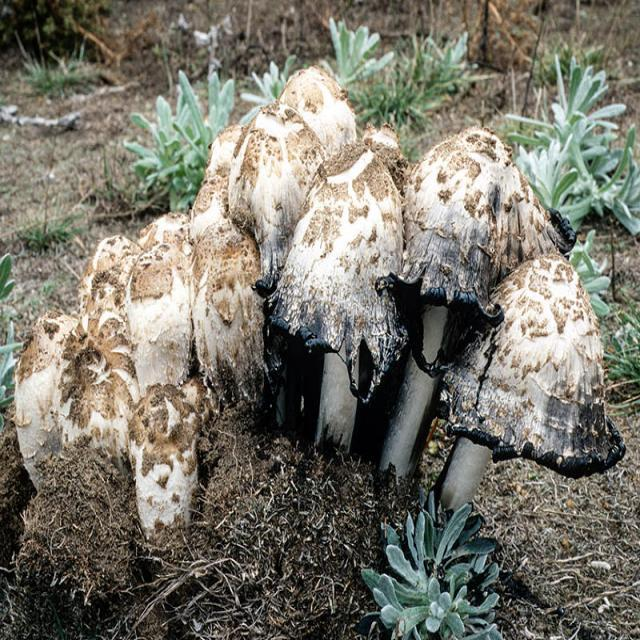Coprinus comatus: (388, 127, 569, 504), (431, 255, 628, 510), (275, 143, 406, 466), (232, 106, 327, 301), (188, 215, 275, 421), (14, 309, 80, 497), (62, 308, 136, 452), (124, 386, 200, 522)
